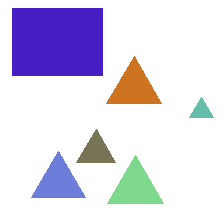rectangle: (12, 8, 102, 75)
triangle: (107, 155, 163, 203), (106, 56, 161, 103), (31, 151, 85, 197), (76, 129, 115, 162), (189, 97, 213, 117)
